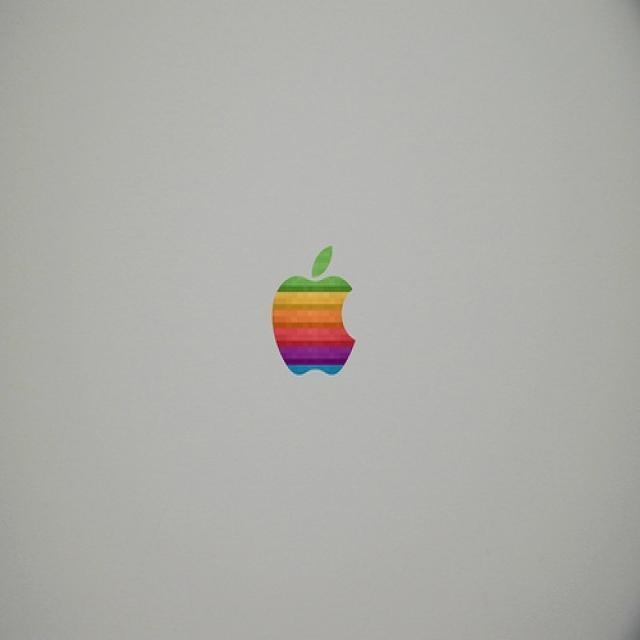apple: (266, 240, 362, 383)
